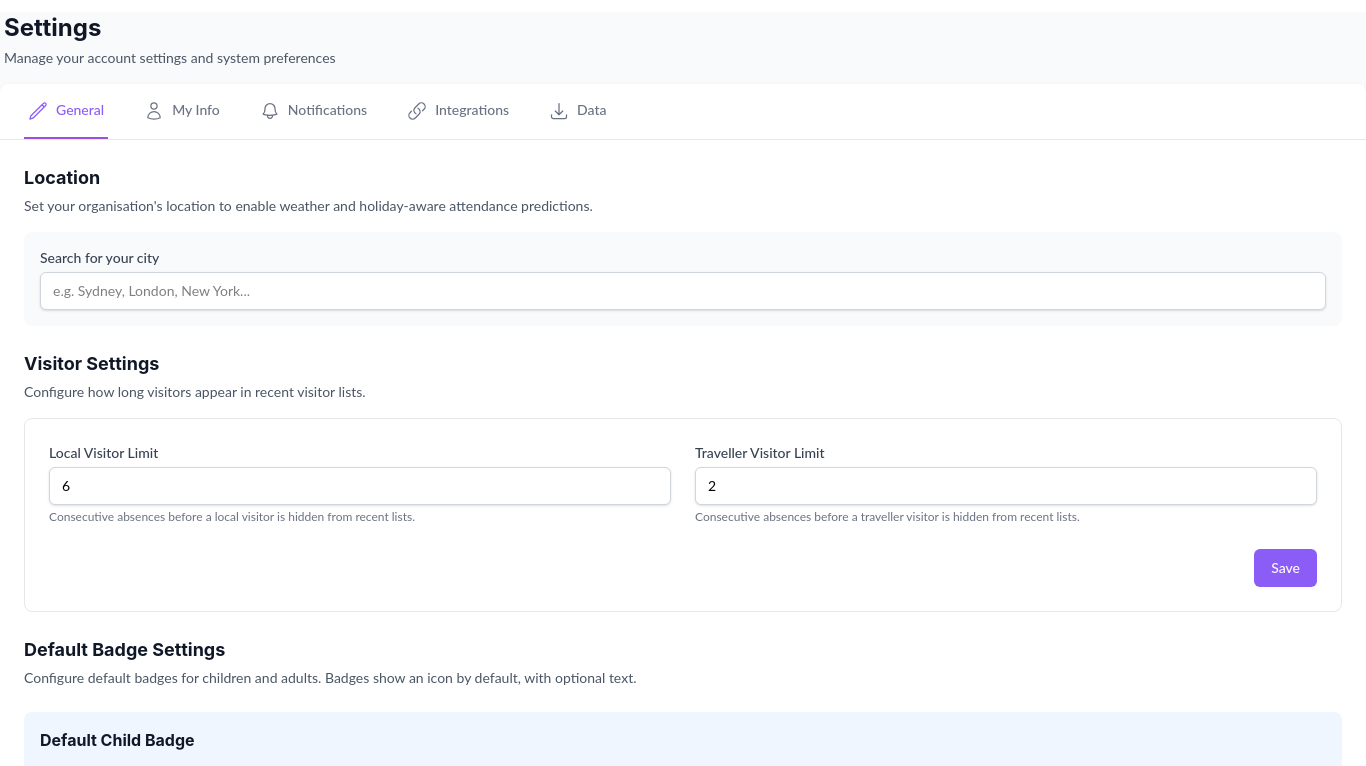
Test case: SettingsPage location search › keeps the newest city results when an older request finishes last
Type "Hob" into the field labelled "Search for your city" at point(683, 291), box [40,272,1326,310]
Wait 301 ms
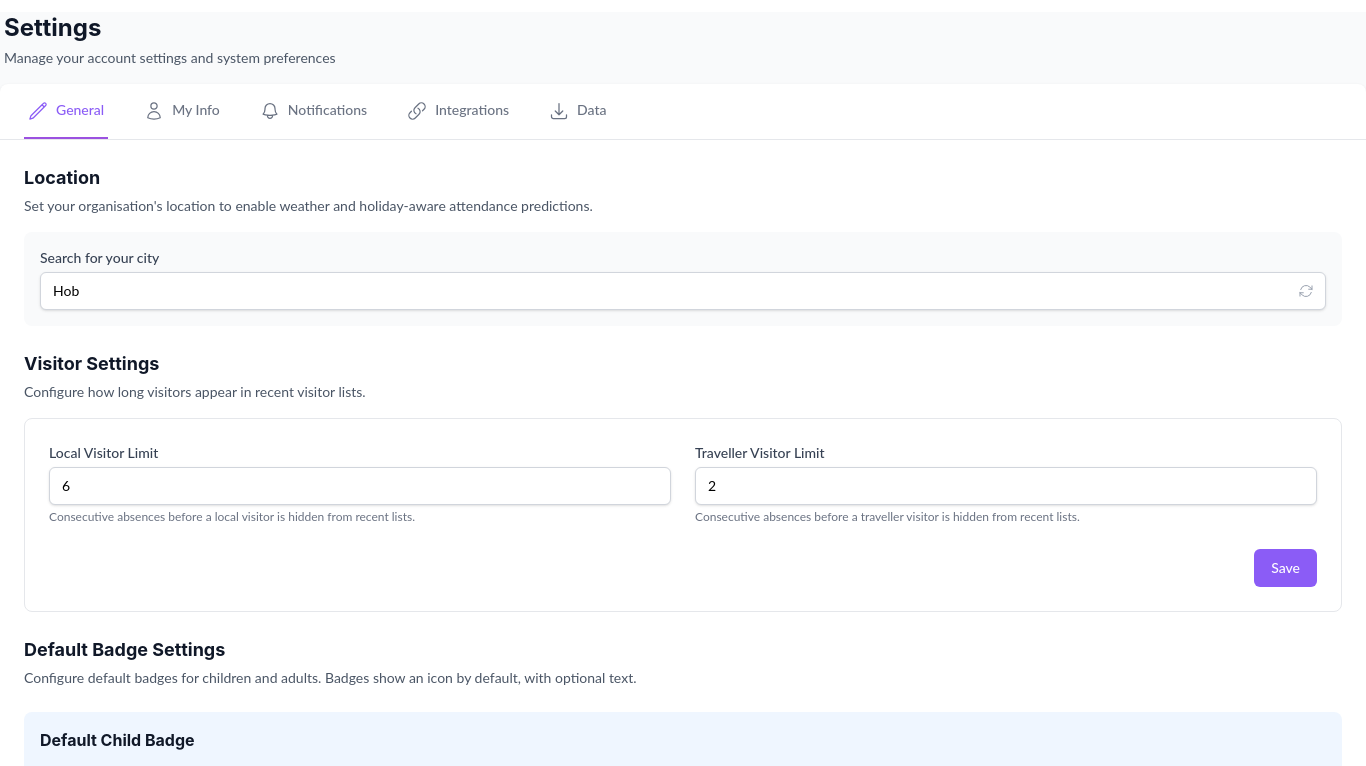
Replace the text in the field labelled "Search for your city" with "Hobart" at point(683, 291), box [40,272,1326,310]
Wait 301 ms
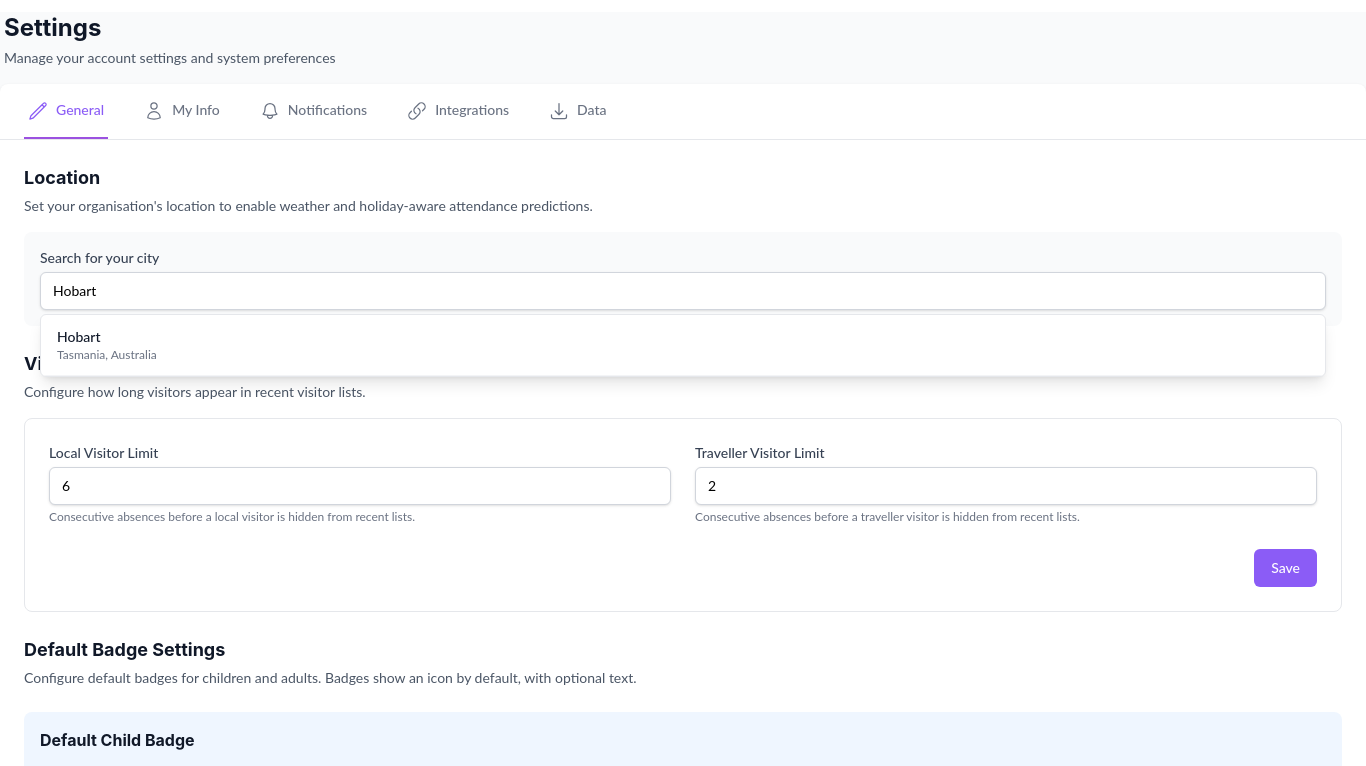
Check: the text "Hobart" is shown, box [57,328,100,345]
